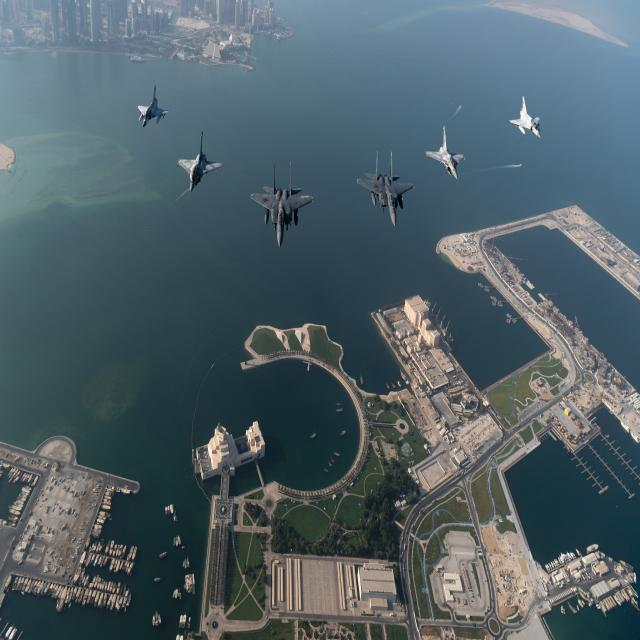MIL_Plane: (250, 153, 314, 255), (356, 150, 414, 228), (176, 52, 223, 115), (425, 125, 466, 181), (111, 83, 143, 128), (509, 95, 541, 139)
